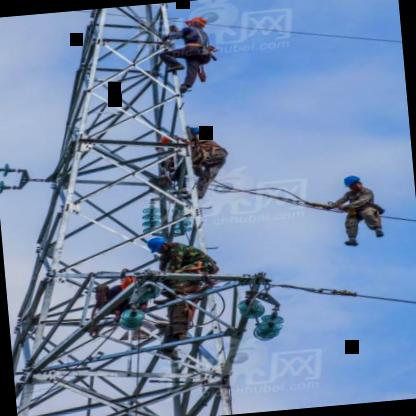helmet: (144, 233, 174, 256), (338, 173, 369, 195), (185, 122, 209, 142), (186, 16, 208, 33)
